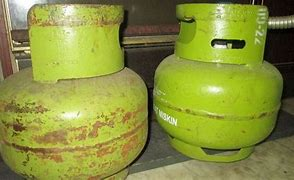gas_ijo: (1, 3, 149, 180), (153, 3, 283, 163)
